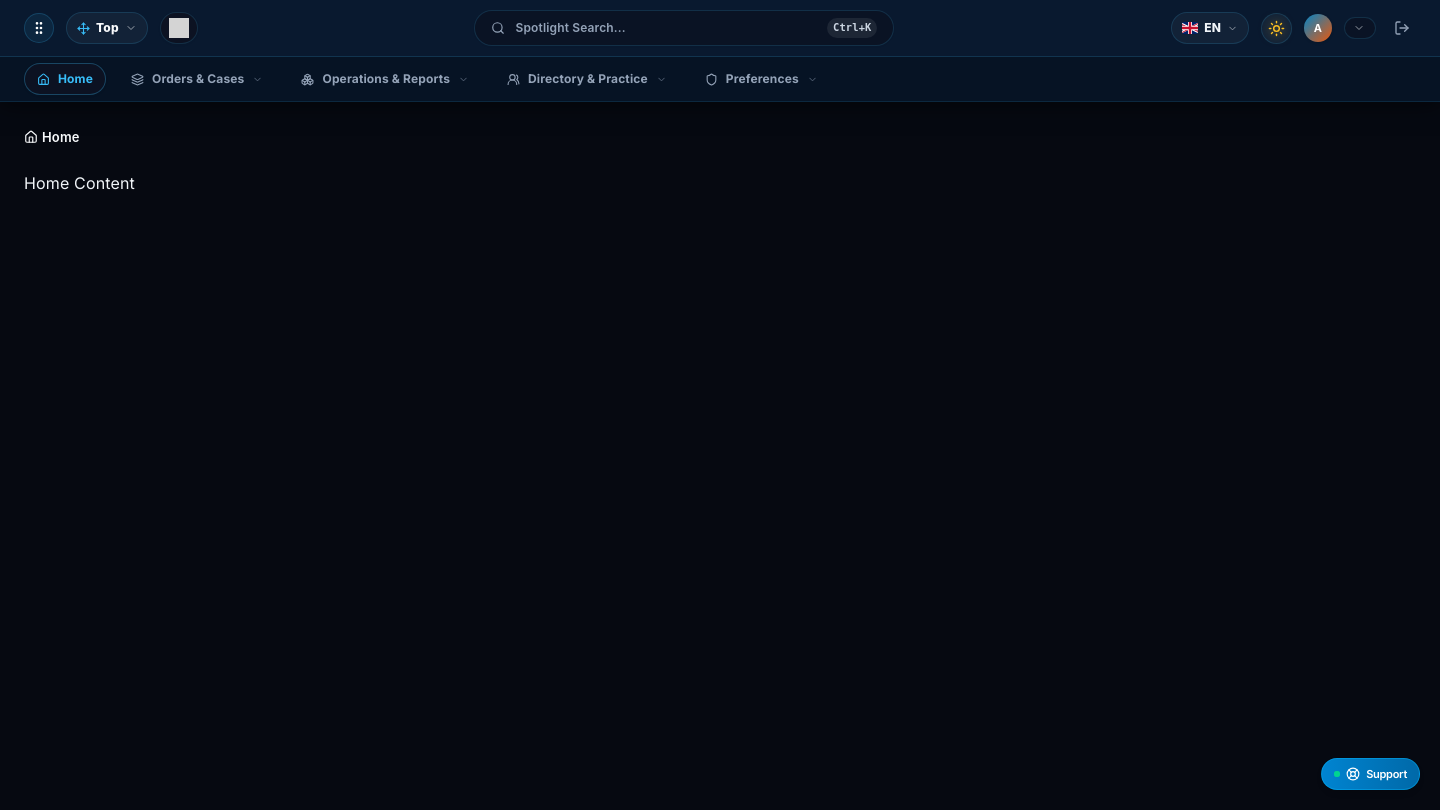
Tier 2 Navbar Dropdown Visibility & Overflow Fix (UIUX-REQ-012) › Orders & Cases Dropdown Visibility › closes the dropdown on outside click and restores scrolling container
Click the button "Orders & Cases" at (197, 79), box [118, 63, 276, 95]
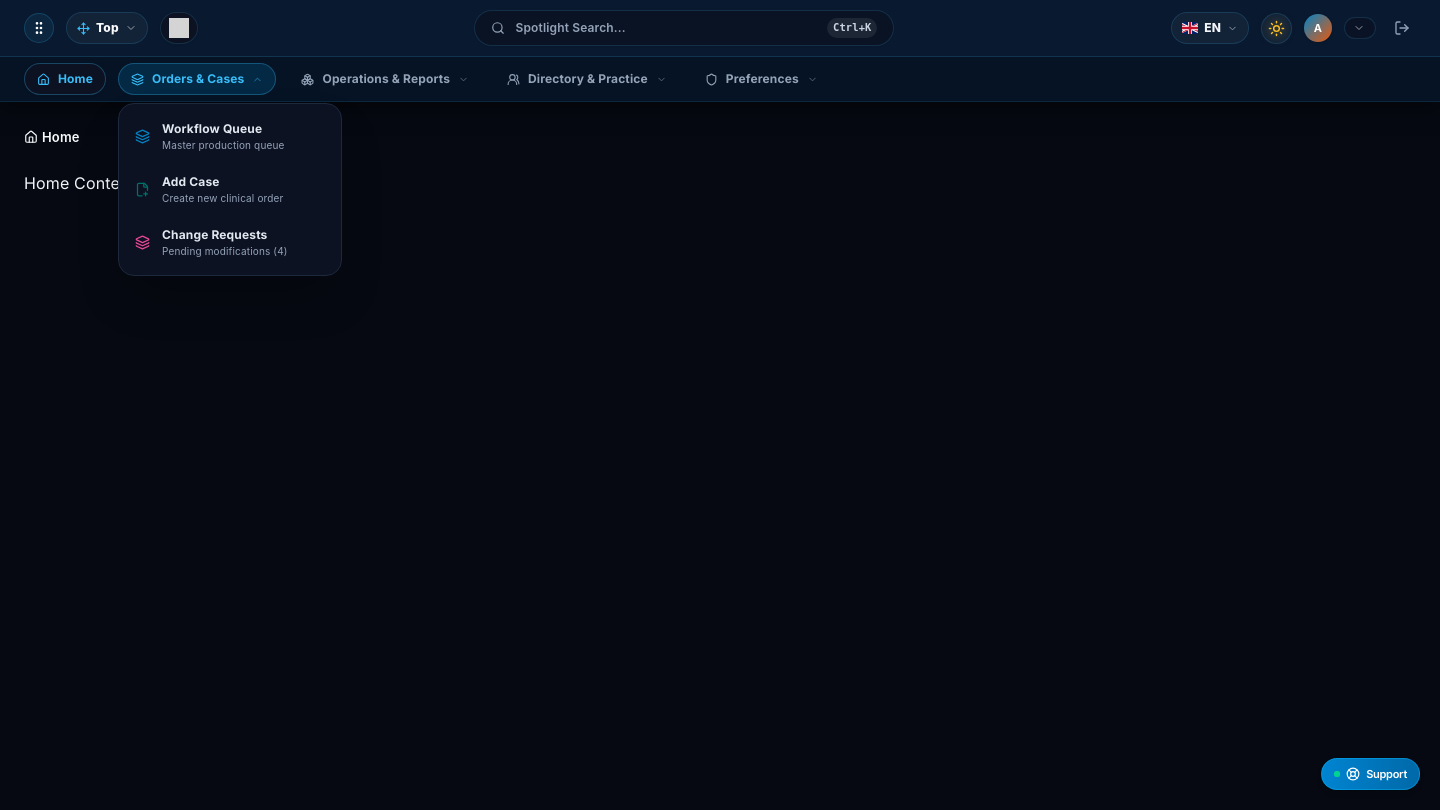
Result: the element with test id "orders-dropdown-menu" is shown at [118, 103, 342, 276]
// Click outside
Press the mouse on the element that starts with "top" at (720, 405), box [0, 0, 1439, 809]
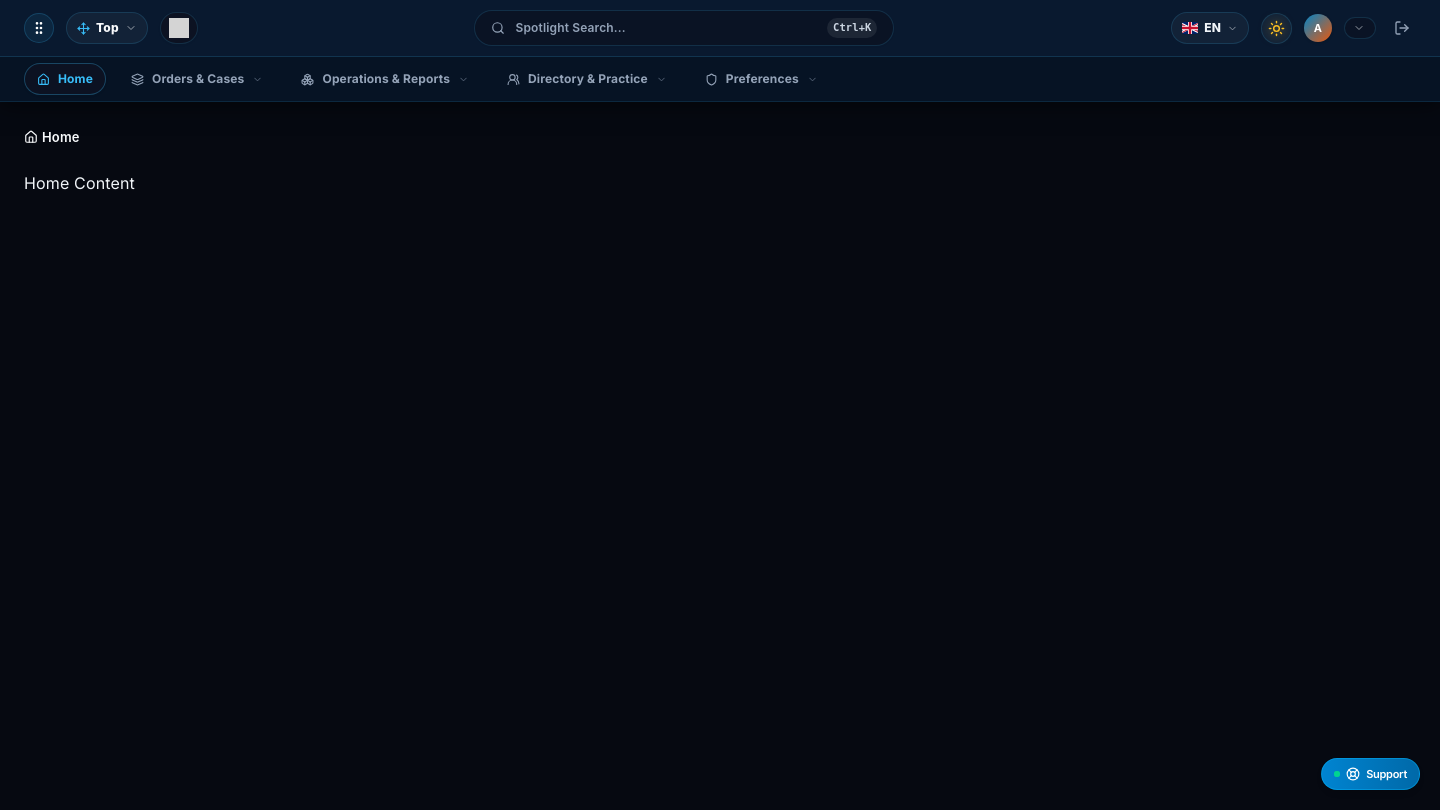
Result: the element with test id "orders-dropdown-menu" is gone
